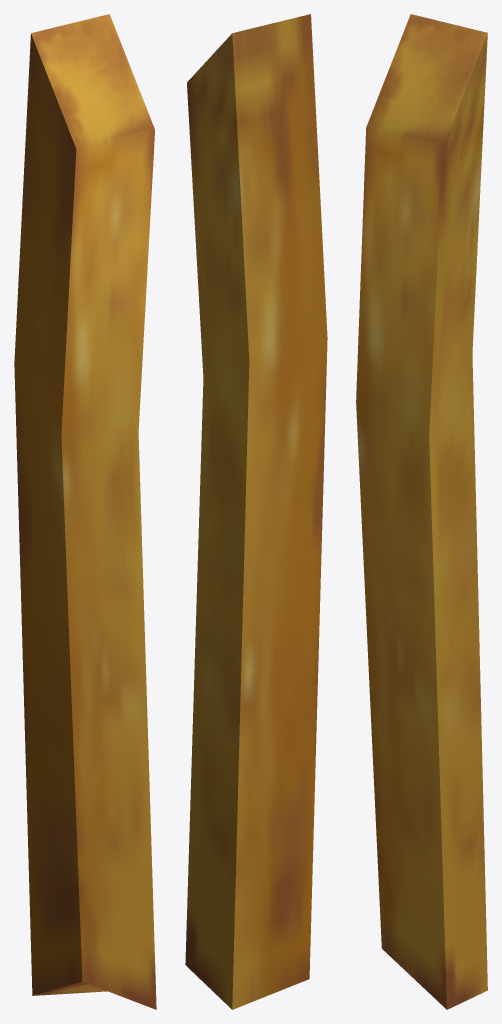
File: fries_001.fbx
3 renders of one model, left to right at view 1: azimuth 30°, elevation 25°; view 2: azimuth 210°, elevation 25°; view 3: azimuth 330°, elevation 25°, orthographic. The views are drawn at different scales.
Parts seen in each view (by area): view 1: fries.001; view 2: fries.001; view 3: fries.001.
Boxes of the visible parts, x1,y1,x2,y2 form: fries.001: [14, 14, 156, 1009]; fries.001: [185, 14, 327, 1009]; fries.001: [356, 14, 487, 1009].
Bounding box in the file's own units: 2.04 × 19.68 × 1.7.
